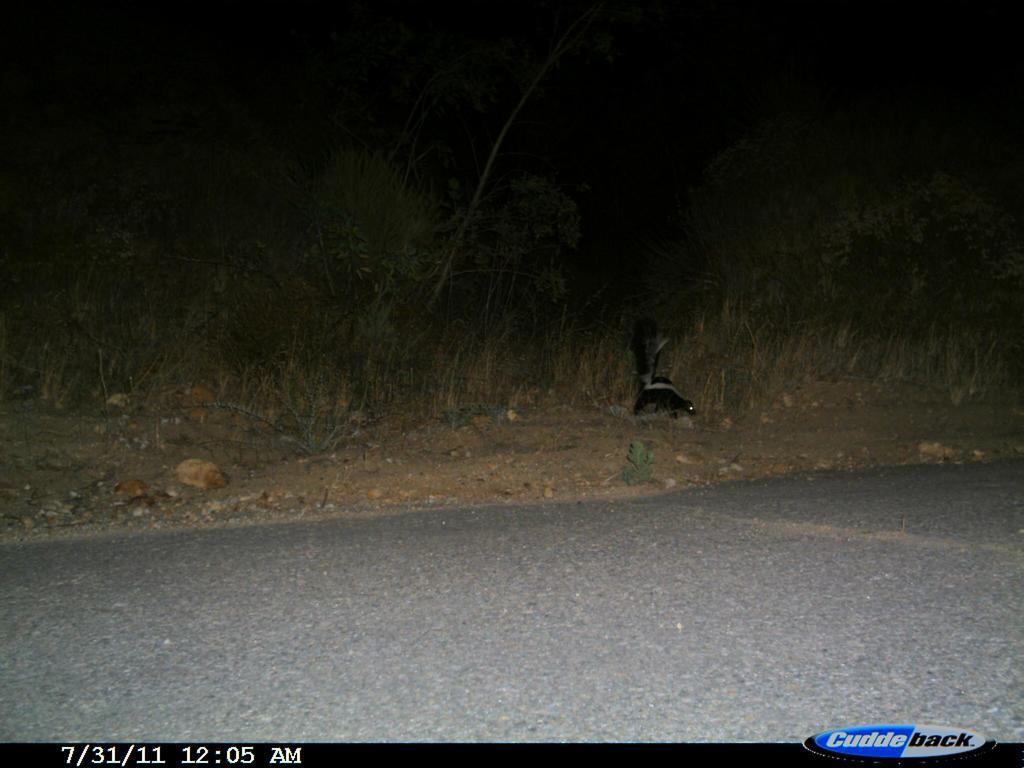skunk: (616, 301, 720, 443)
